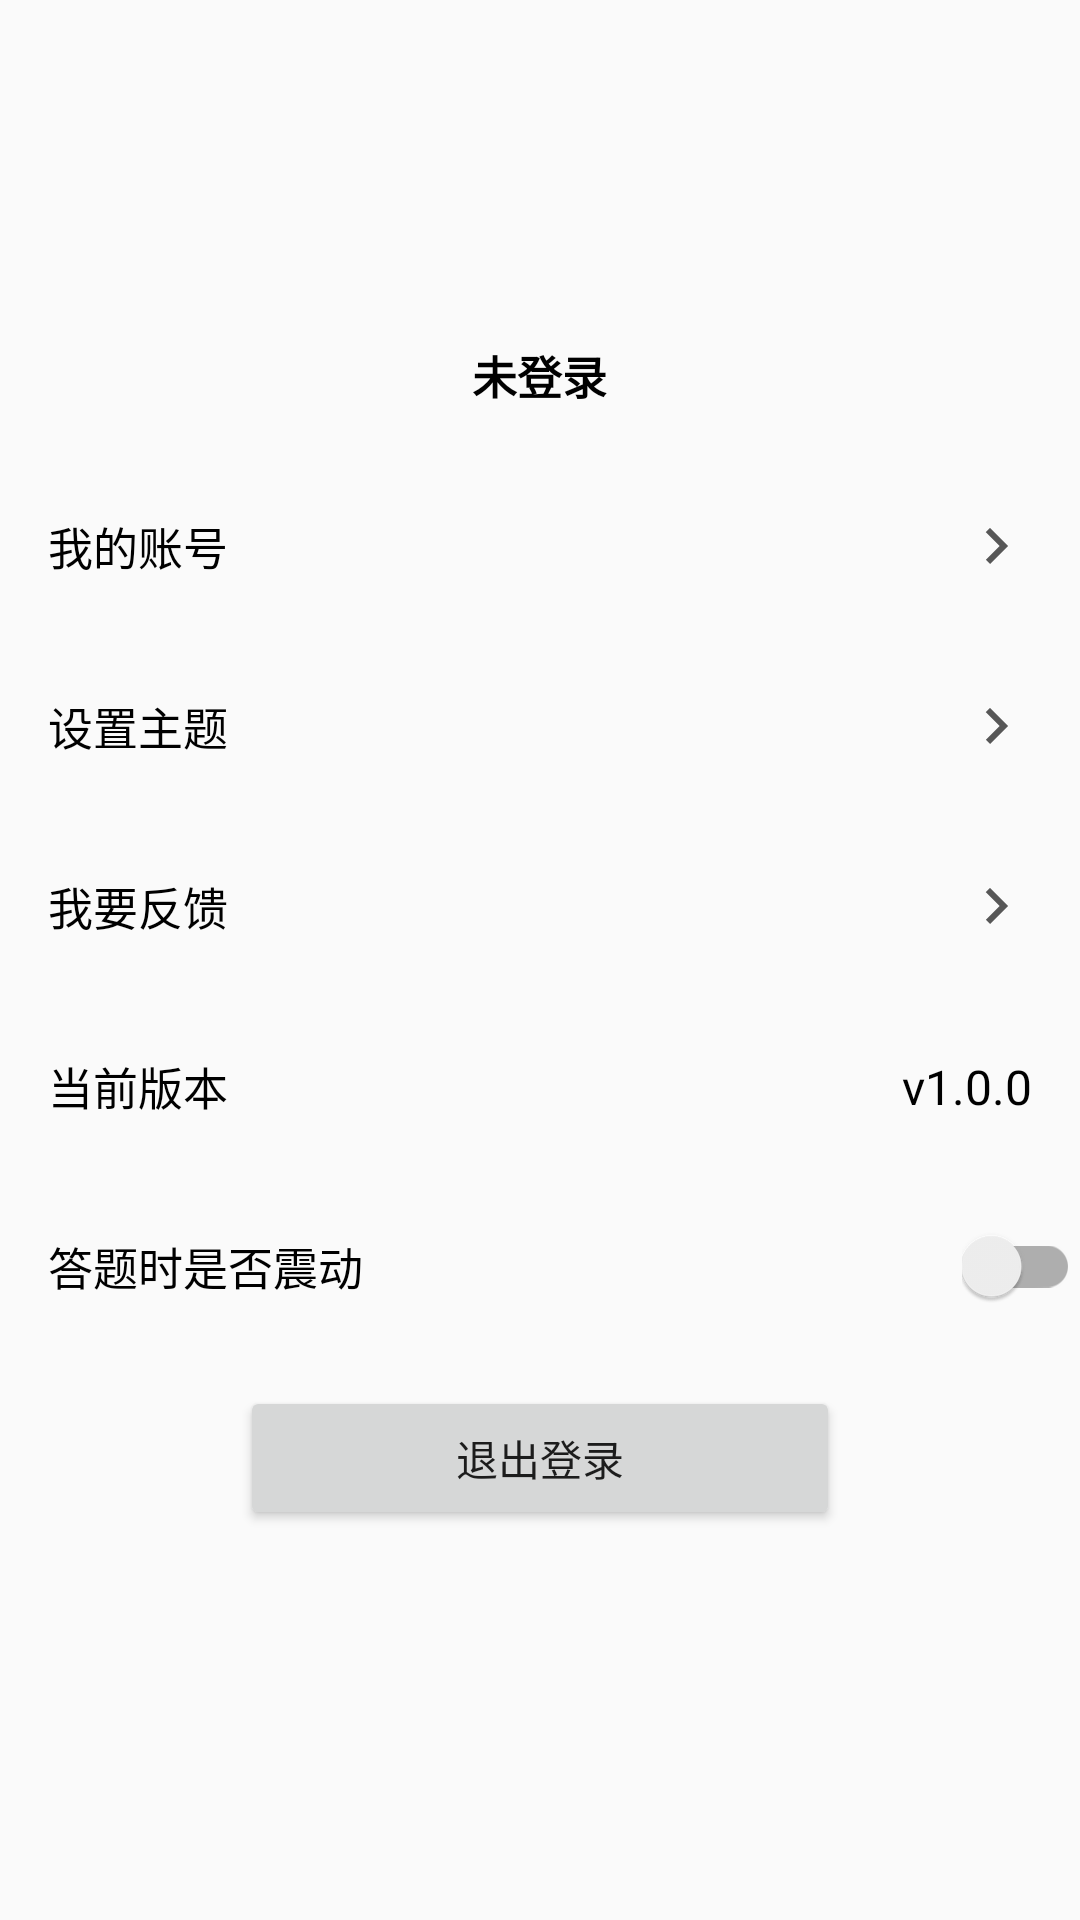

Icon bounding boxes for this 1080 x 1920 phone screenshot, format rect(x1, y1, x2, y2):
arrow right: rect(986, 528, 1008, 564), rect(986, 708, 1008, 744), rect(986, 888, 1008, 924)
